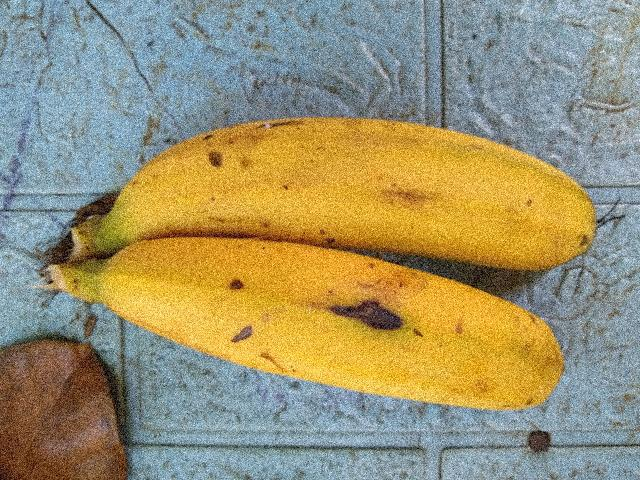freshripe: (107, 97, 605, 274)
ripe: (119, 240, 594, 466)
